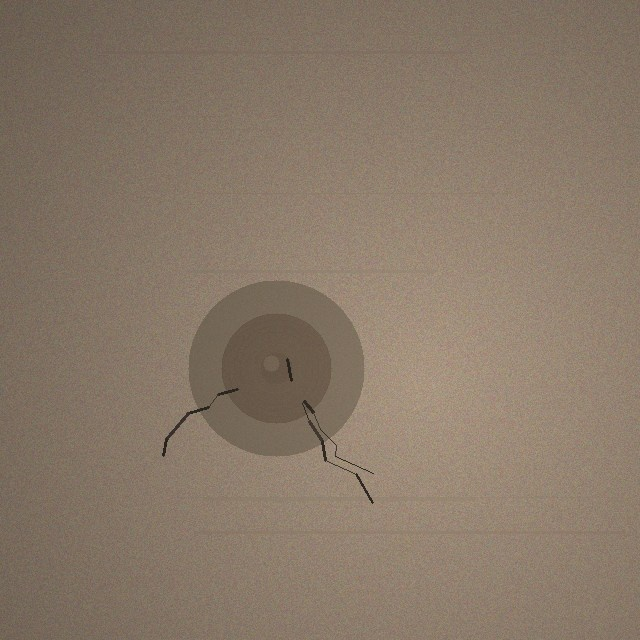crack: (188, 280, 364, 456)
